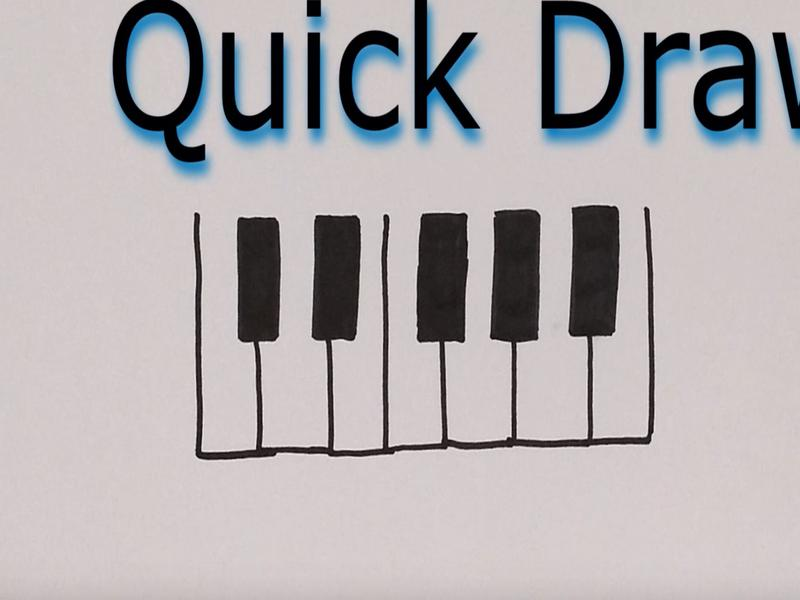piano: (192, 213, 657, 460)
